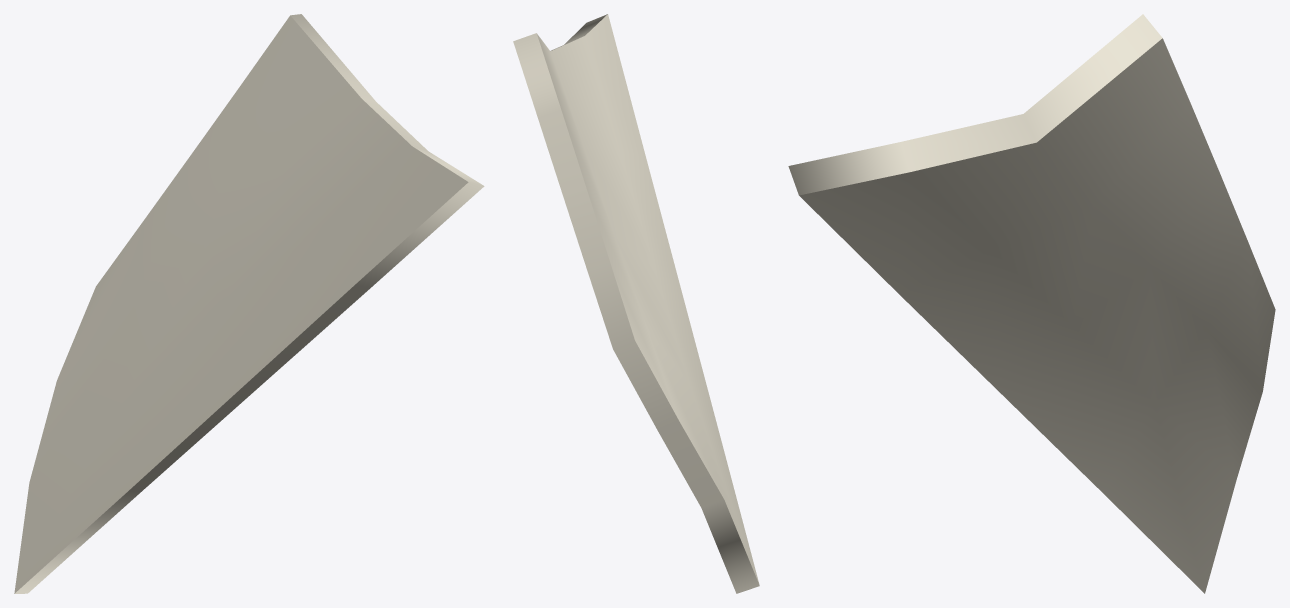
3 views of the same model, side by side, from view 1: azimuth 30°, elevation 25°; view 2: azimuth 150°, elevation 25°; view 3: azimuth 270°, elevation 25° (orthographic). The views are drawn at different scales.
Parts seen in each view (by area): view 1: ZA_6b8422984fe260ce; view 2: ZA_6b8422984fe260ce; view 3: ZA_6b8422984fe260ce.
Part boxes in pixels (bbox=[...]): ZA_6b8422984fe260ce: bbox=[14, 14, 484, 593]; ZA_6b8422984fe260ce: bbox=[513, 14, 759, 593]; ZA_6b8422984fe260ce: bbox=[788, 14, 1275, 593].
Size of the model in its own units: 0.014 by 0.0217 by 0.0129.
